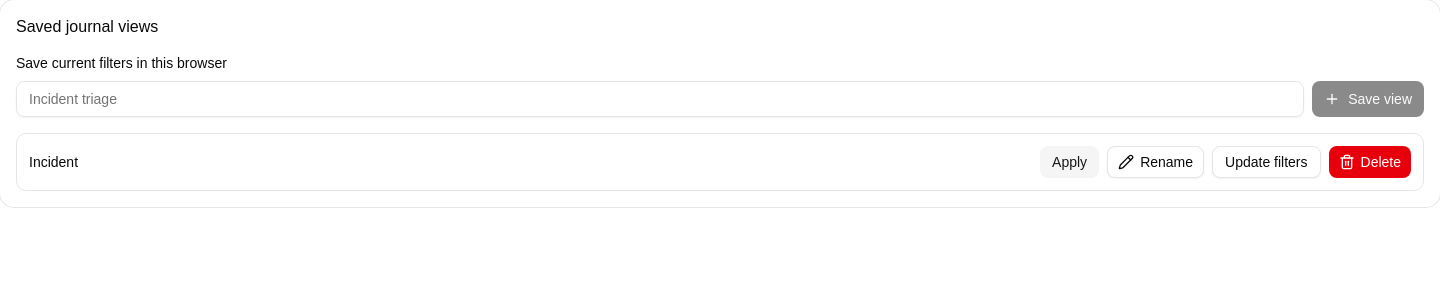
SavedLogViews › rejects duplicate names
Expected: the text "Incident" is shown, top-left (29, 152), bottom-right (78, 172)
In the field labelled "Save current filters in this browser": (660, 99) top-left (16, 81), bottom-right (1304, 117), type "incident"
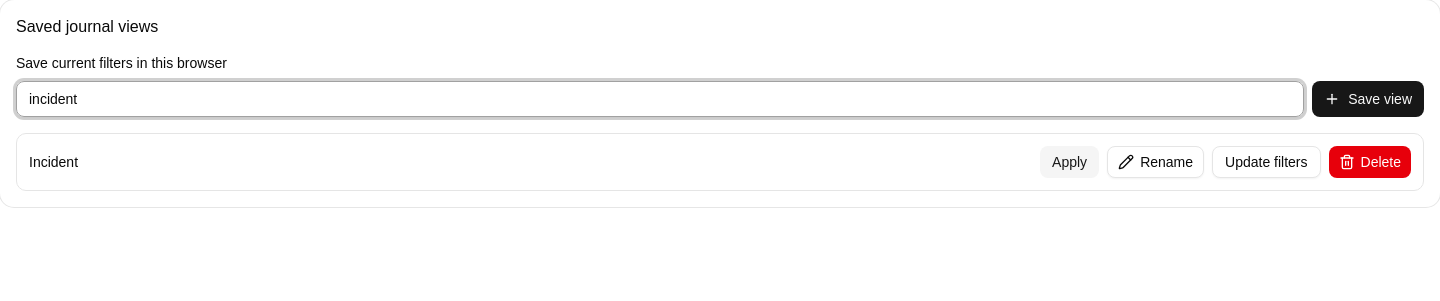
Click the button "Save view": (1368, 99) top-left (1312, 81), bottom-right (1424, 117)
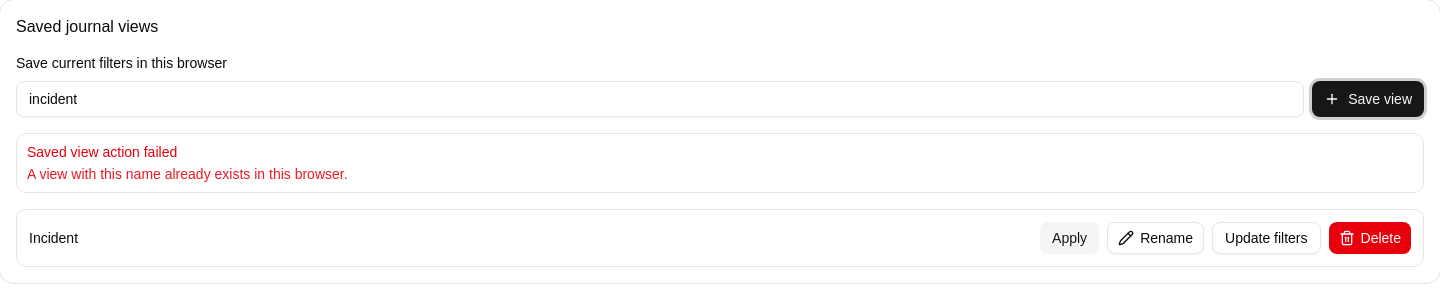
Result: the text "A view with this name already exists in this browser." is shown at top-left (27, 166), bottom-right (348, 182)
